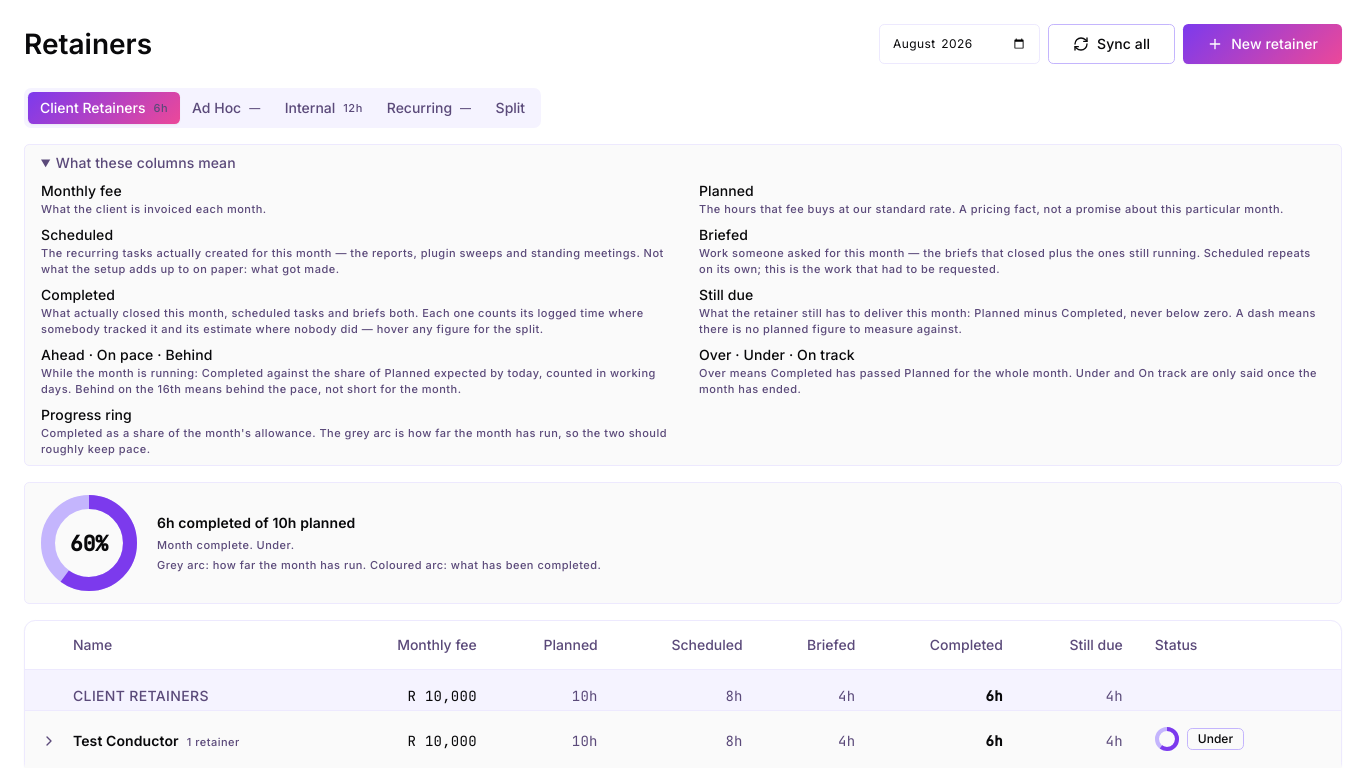
RetainersList client vs internal › lists one of our brands on Internal even with no retainer of its own
Click the tab "Internal 12h": click(324, 108) [273,92,375,124]
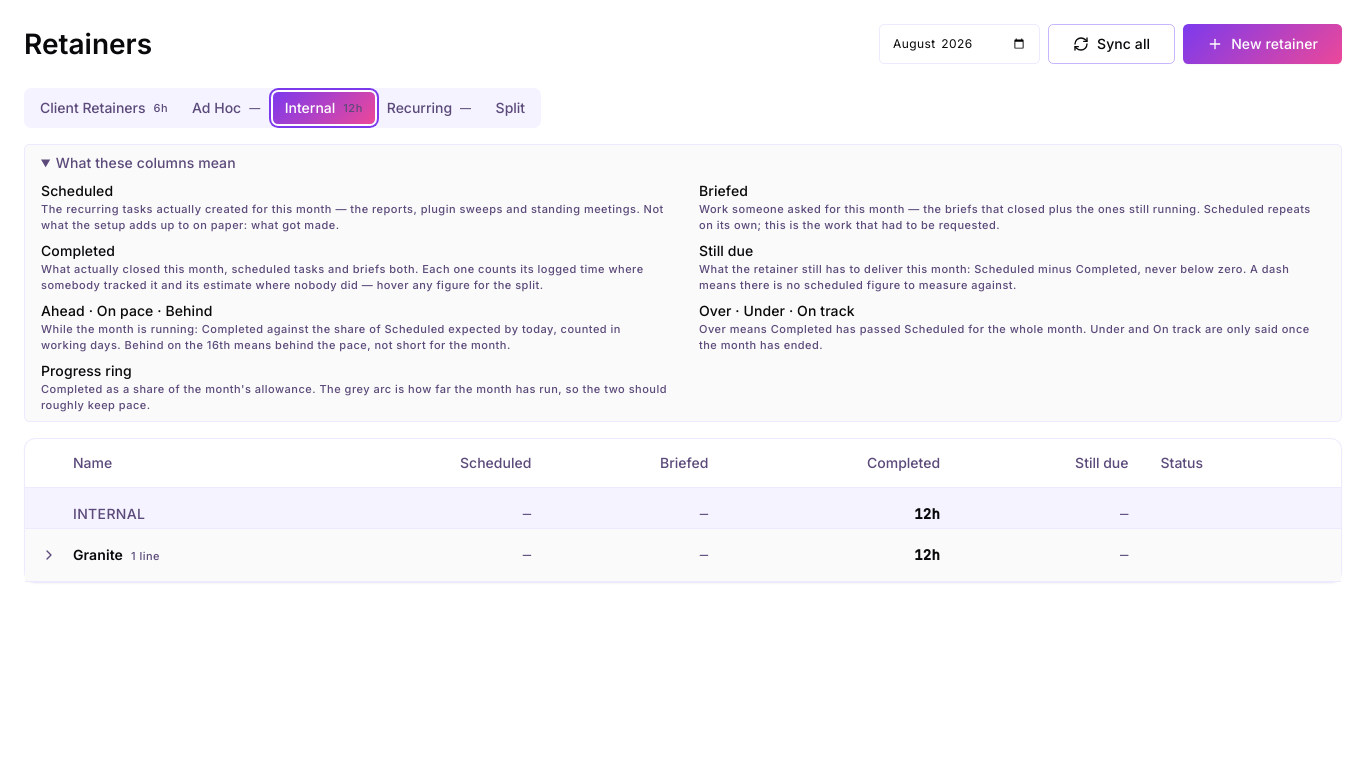
Now the text "Granite" is shown, box [73,546,123,562]
